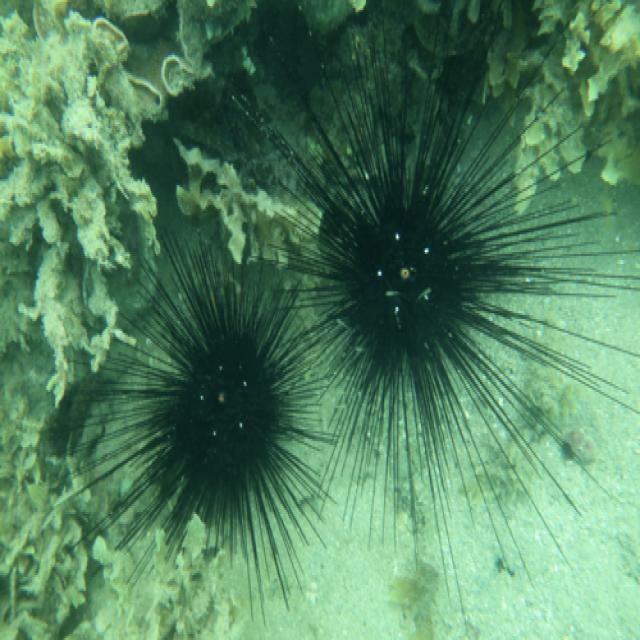Urchin: (224, 20, 631, 616), (55, 234, 337, 616)
